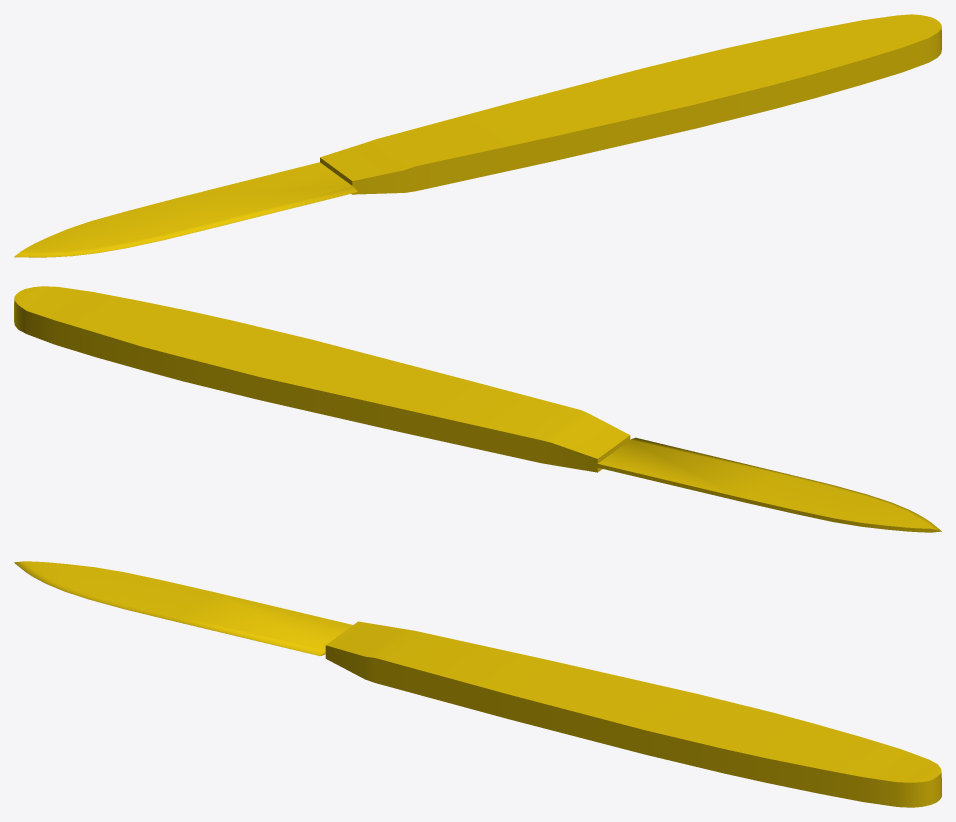
Rendered from SM_Knife_20.FBX.
3 views of the same model, one above another, from view 1: azimuth 30°, elevation 25°; view 2: azimuth 150°, elevation 25°; view 3: azimuth 330°, elevation 25° (orthographic).
Parts seen in each view (by area): view 1: Knife_20; view 2: Knife_20; view 3: Knife_20.
Boxes of the visible parts, x1=… form: Knife_20: x1=14, y1=14, x2=941, y2=257; Knife_20: x1=14, y1=286, x2=941, y2=532; Knife_20: x1=14, y1=561, x2=941, y2=807.
Size of the model in its own units: 17.36 by 0.4554 by 1.66.
